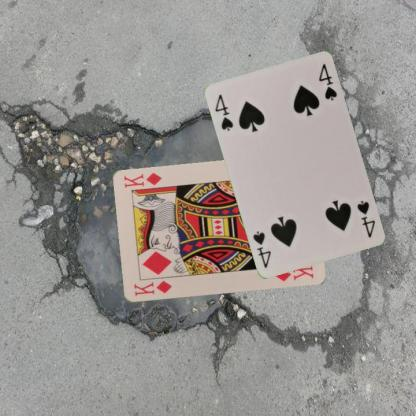4s: (354, 198, 376, 239), (213, 92, 235, 132)
Kd: (131, 278, 173, 297)
